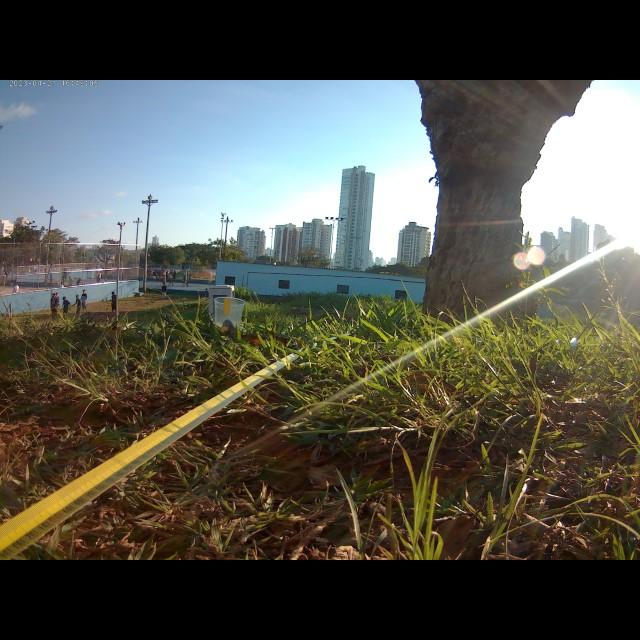arvore: (409, 80, 593, 337)
